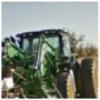tractors: (2, 25, 98, 98)
